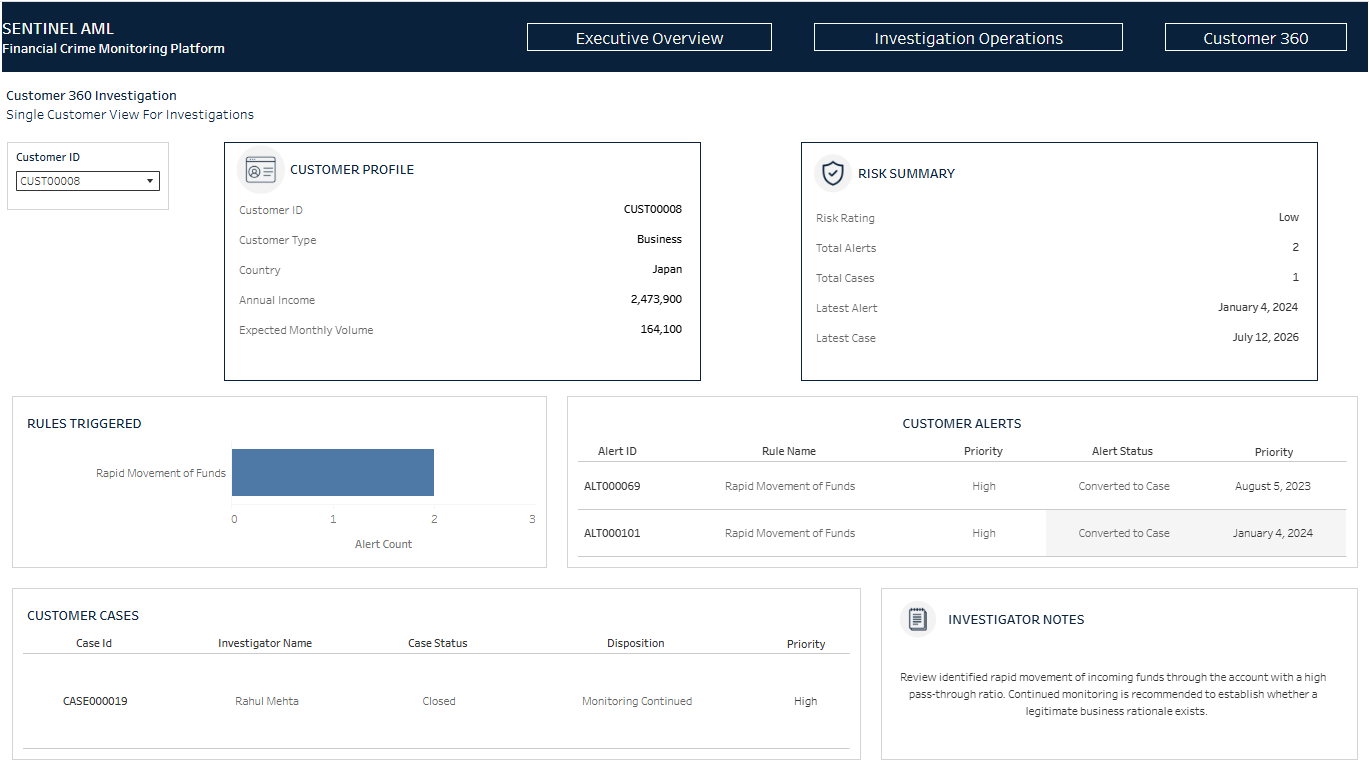

Layout of this report page (visuals, bound fields, positions):
{"tool":"tableau","page":{"name":"Dashboard 3","canvas":[1366,768],"ordinal":2},"visuals":[{"type":"text","box":[0,0,504,69.8]},{"type":"dashboard-object","box":[504,0,287,69.8]},{"type":"dashboard-object","box":[791,0,351,69.8]},{"type":"dashboard-object","box":[1142,0,224,69.8]},{"type":"text","box":[0,69.8,1366,65.2]},{"type":"filter","title":"3-rules triggered","param":"[federated.0al7et613q8bnx10lcgn71p491zi].[none:customer_id (vw_dashboard_alerts_","box":[0,135,172,78]},{"type":"image","param":"C:/Users/sonak/Desktop/Screenshot 2026-07-23 161458.png","box":[233,141,51,51]},{"type":"text","box":[284,141,406,51]},{"type":"image","param":"C:/Users/sonak/Desktop/Screenshot 2026-07-23 161753.png","box":[812,141,42,59]},{"type":"text","box":[854,141,451,59]},{"type":"text","box":[233,192,304,31]},{"type":"worksheet","title":"3-customer id","mark":"Automatic","box":[537,192,153,31]},{"type":"text","box":[812,200,425,31]},{"type":"worksheet","title":"3-risk rating","mark":"Automatic","box":[1237,200,68,31]},{"type":"text","box":[233,223,304,31]},{"type":"worksheet","title":"3-customer type","mark":"Automatic","box":[537,223,153,31]},{"type":"text","box":[812,231,425,31]},{"type":"worksheet","title":"3-total alerts","mark":"Automatic","box":[1237,231,68,31]},{"type":"text","box":[233,254,304,31]},{"type":"worksheet","title":"3-customer country","mark":"Automatic","box":[537,254,153,31]},{"type":"text","box":[812,262,425,31]},{"type":"worksheet","title":"3-total cases","mark":"Automatic","box":[1237,262,68,31]},{"type":"text","box":[233,285,304,31]},{"type":"worksheet","title":"3-customer income","mark":"Automatic","box":[537,285,153,31]},{"type":"text","box":[812,293,288,31]},{"type":"worksheet","title":"3-latest alert","mark":"Automatic","box":[1100,293,205,31]},{"type":"text","box":[233,316,304,31]},{"type":"worksheet","title":"3-expected monthly volume","mark":"Automatic","box":[537,316,153,31]},{"type":"text","box":[812,324,329,31]},{"type":"worksheet","title":"3-latest case","mark":"Automatic","box":[1141,324,164,31]},{"type":"worksheet","title":"3-rules triggered","mark":"Automatic","rows":["rule_name (vw_dashboard_alerts_202607221516.csv)"],"cols":["alert_id (vw_dashboard_alerts_202607221516.csv)"],"box":[0,384,555,191.8]},{"type":"worksheet","title":"3-customer alerts","mark":"Automatic","rows":["Calculation_604326801241341958","Calculation_604326801241878536","Calculation_604326801241927689","Calculation_604326801242034187"],"box":[555,384,811,191.8]},{"type":"worksheet","title":"3-customer cases","mark":"Automatic","rows":["case_id","investigator_name","case_status","disposition"],"box":[0,575.8,869,192.2]},{"type":"image","param":"C:/Users/sonak/Desktop/Screenshot 2026-07-23 161011.png","box":[890,596.8,52,39]},{"type":"text","box":[942,596.8,403,39]},{"type":"worksheet","title":"3- case notes","mark":"Automatic","box":[890,635.8,455,111.2]}]}

Visuals, with their boxes in screenshot pixels (x1, y1, x2, y2), scaled from the page's 1366x768 canvas onto the 1369x765 screenshot:
text: x1=0, y1=0, x2=505, y2=70
dashboard-object: x1=505, y1=0, x2=793, y2=70
dashboard-object: x1=793, y1=0, x2=1145, y2=70
dashboard-object: x1=1145, y1=0, x2=1368, y2=70
text: x1=0, y1=70, x2=1368, y2=134
"3-rules triggered" filter: x1=0, y1=134, x2=172, y2=212
image: x1=234, y1=140, x2=285, y2=191
text: x1=285, y1=140, x2=692, y2=191
image: x1=814, y1=140, x2=856, y2=199
text: x1=856, y1=140, x2=1308, y2=199
text: x1=234, y1=191, x2=538, y2=222
"3-customer id" worksheet: x1=538, y1=191, x2=692, y2=222
text: x1=814, y1=199, x2=1240, y2=230
"3-risk rating" worksheet: x1=1240, y1=199, x2=1308, y2=230
text: x1=234, y1=222, x2=538, y2=253
"3-customer type" worksheet: x1=538, y1=222, x2=692, y2=253
text: x1=814, y1=230, x2=1240, y2=261
"3-total alerts" worksheet: x1=1240, y1=230, x2=1308, y2=261
text: x1=234, y1=253, x2=538, y2=284
"3-customer country" worksheet: x1=538, y1=253, x2=692, y2=284
text: x1=814, y1=261, x2=1240, y2=292
"3-total cases" worksheet: x1=1240, y1=261, x2=1308, y2=292
text: x1=234, y1=284, x2=538, y2=315
"3-customer income" worksheet: x1=538, y1=284, x2=692, y2=315
text: x1=814, y1=292, x2=1102, y2=323
"3-latest alert" worksheet: x1=1102, y1=292, x2=1308, y2=323
text: x1=234, y1=315, x2=538, y2=346
"3-expected monthly volume" worksheet: x1=538, y1=315, x2=692, y2=346
text: x1=814, y1=323, x2=1144, y2=354
"3-latest case" worksheet: x1=1144, y1=323, x2=1308, y2=354
"3-rules triggered" worksheet: x1=0, y1=382, x2=556, y2=574
"3-customer alerts" worksheet: x1=556, y1=382, x2=1368, y2=574
"3-customer cases" worksheet: x1=0, y1=574, x2=871, y2=764
image: x1=892, y1=594, x2=944, y2=633
text: x1=944, y1=594, x2=1348, y2=633
"3- case notes" worksheet: x1=892, y1=633, x2=1348, y2=744
